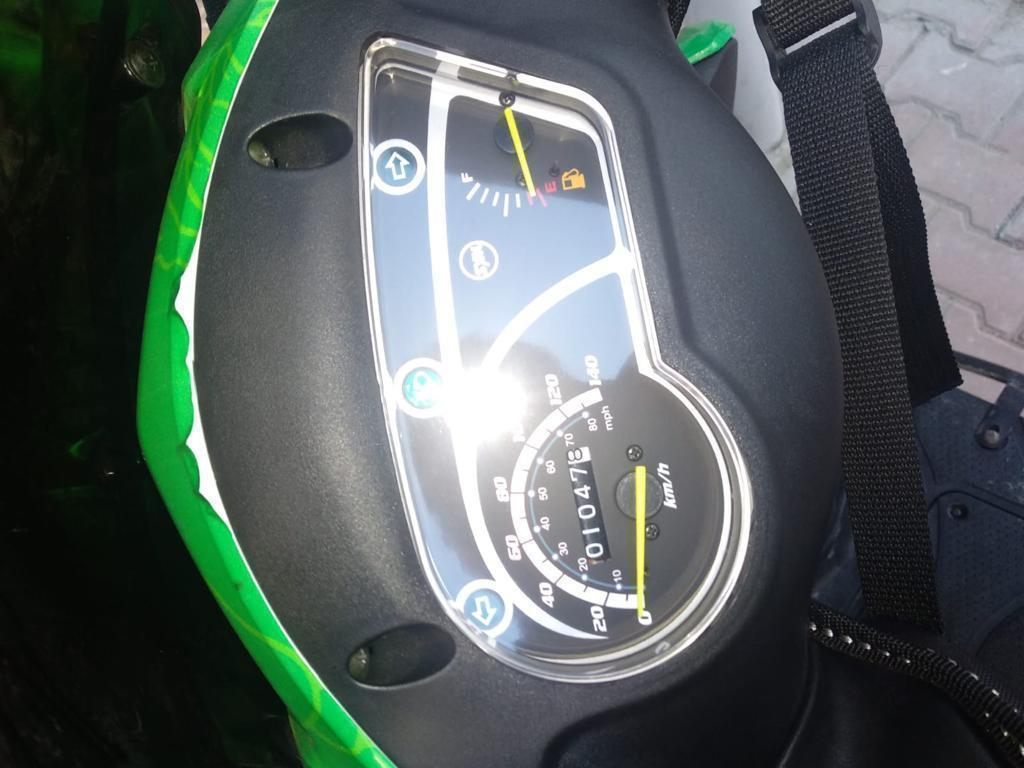0: (575, 503, 597, 520), (583, 541, 605, 558), (575, 557, 588, 565)
1: (578, 525, 602, 537)
4: (571, 482, 593, 500)
7: (567, 466, 589, 483)
8: (565, 446, 583, 463)
odometer: (562, 443, 614, 567)
